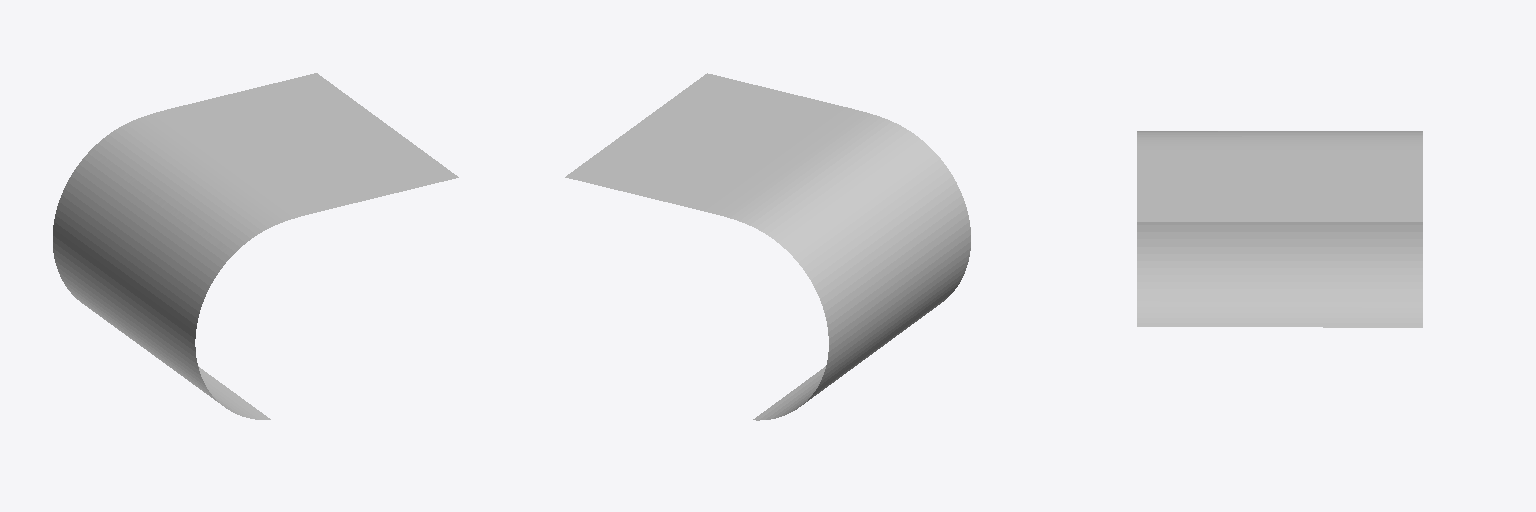
File: CurvePaper_000041.obj
The picture shows the model from 3 angles: view 1: azimuth 30°, elevation 25°; view 2: azimuth 150°, elevation 25°; view 3: azimuth 270°, elevation 25°; orthographic projection.
Parts seen in each view (by area): view 1: Plane; view 2: Plane; view 3: Plane.
Boxes of the visible parts, x1=… form: Plane: x1=53, y1=73, x2=458, y2=419; Plane: x1=565, y1=73, x2=970, y2=420; Plane: x1=1137, y1=131, x2=1422, y2=327.
Bounding box in the file's own units: 2.42 × 1.73 × 2.26.